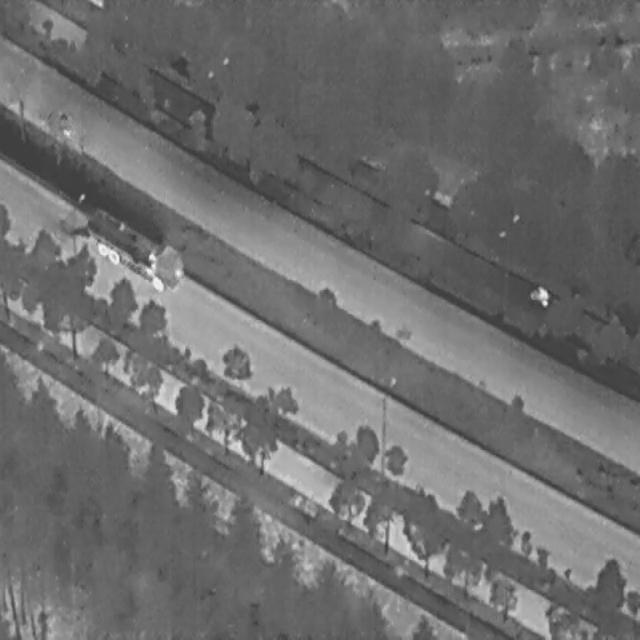OtherVehicle: (75, 198, 192, 298)
